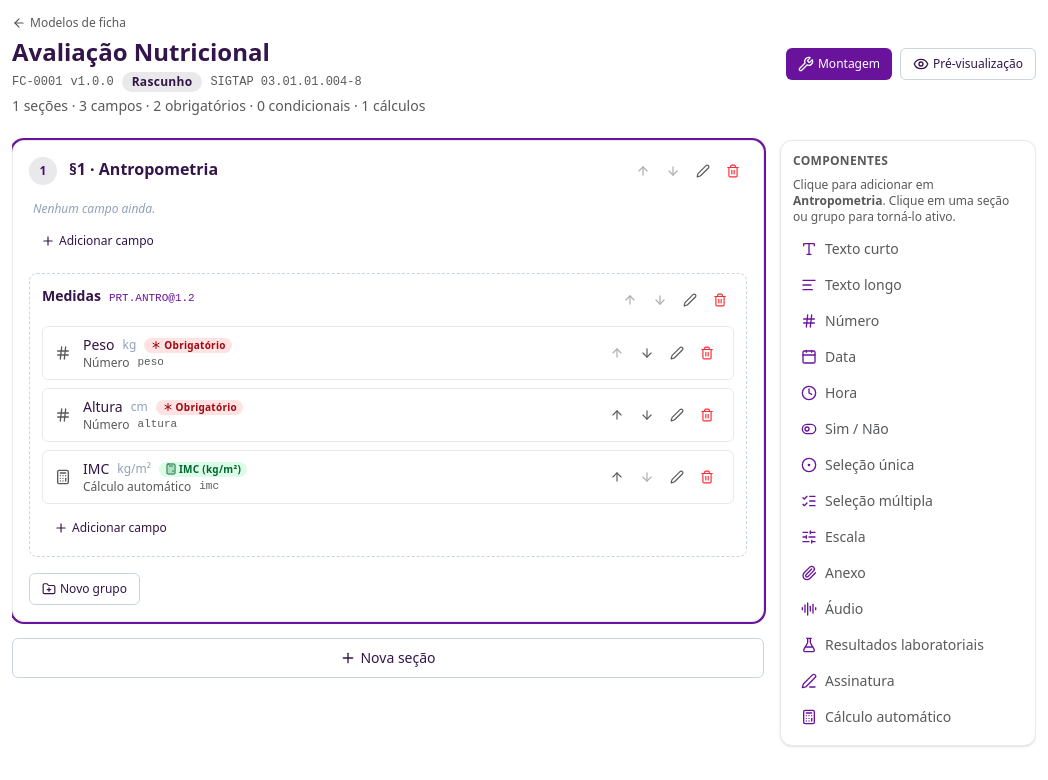
it: FormBuilderPage › previews the form with automatic IMC and required counter
Click the button "Pré-visualização" at (968, 64), box [900, 48, 1036, 80]
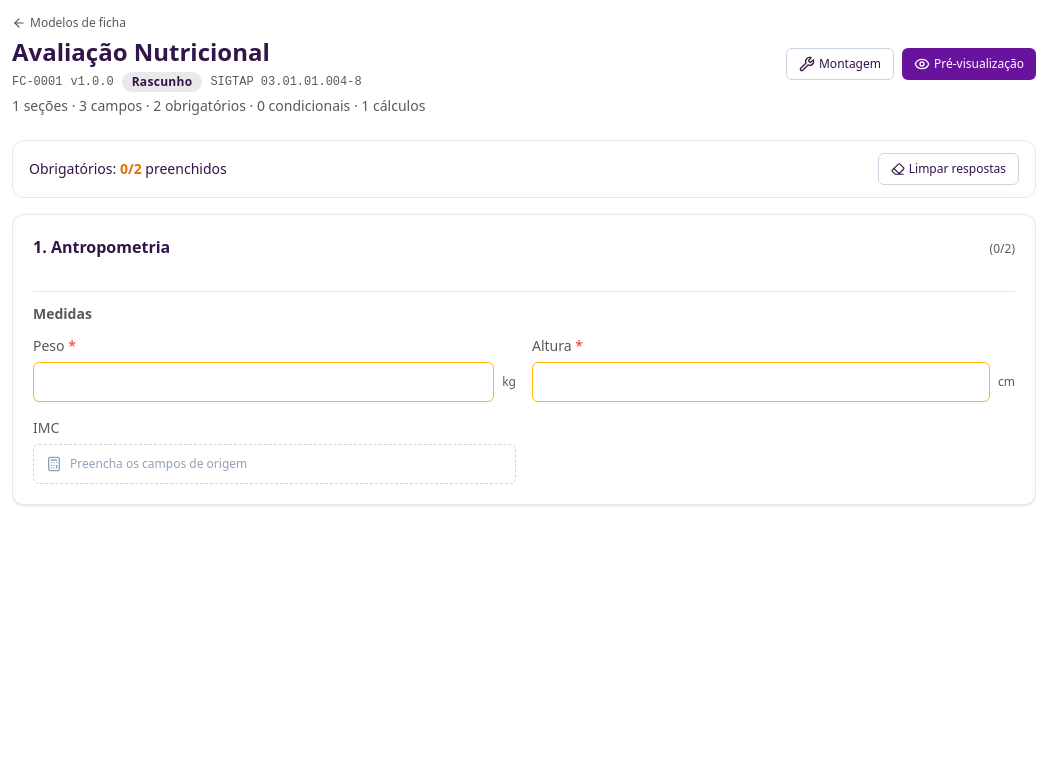
Expected: the text "Preencha os campos de origem" is shown, [70, 456, 247, 472]
Type "80" into the number field labelled "Peso *" at (264, 382), box [33, 362, 494, 402]
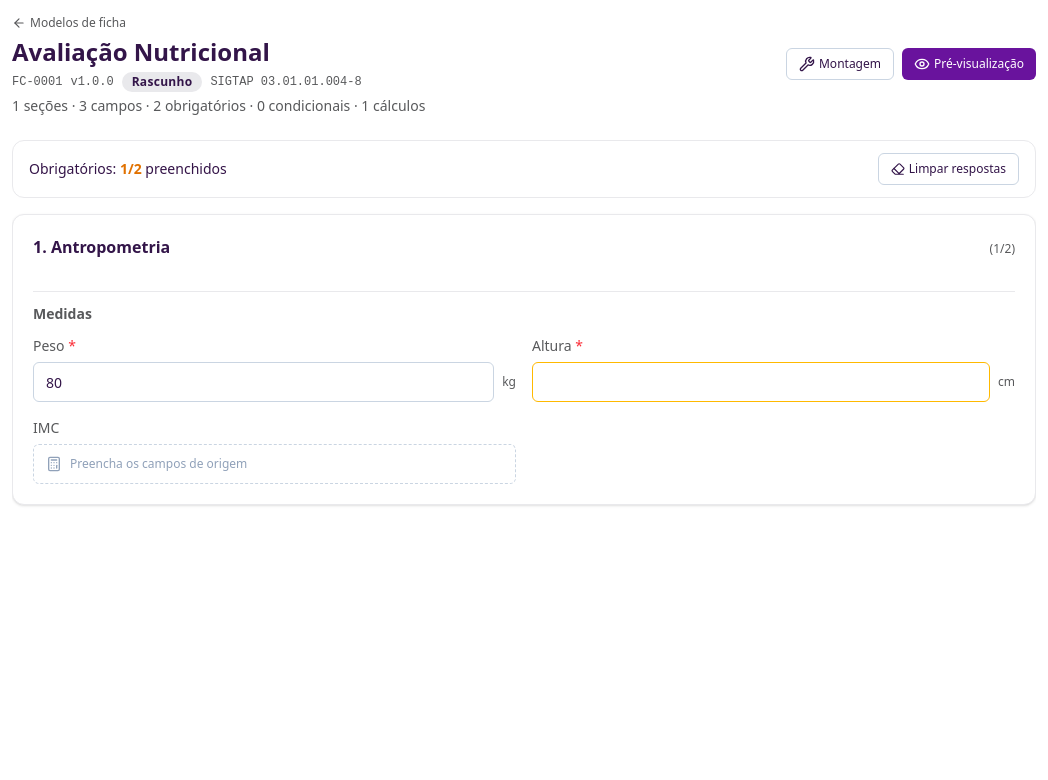
Type "170" into the number field labelled "Altura *" at (761, 382), box [532, 362, 990, 402]
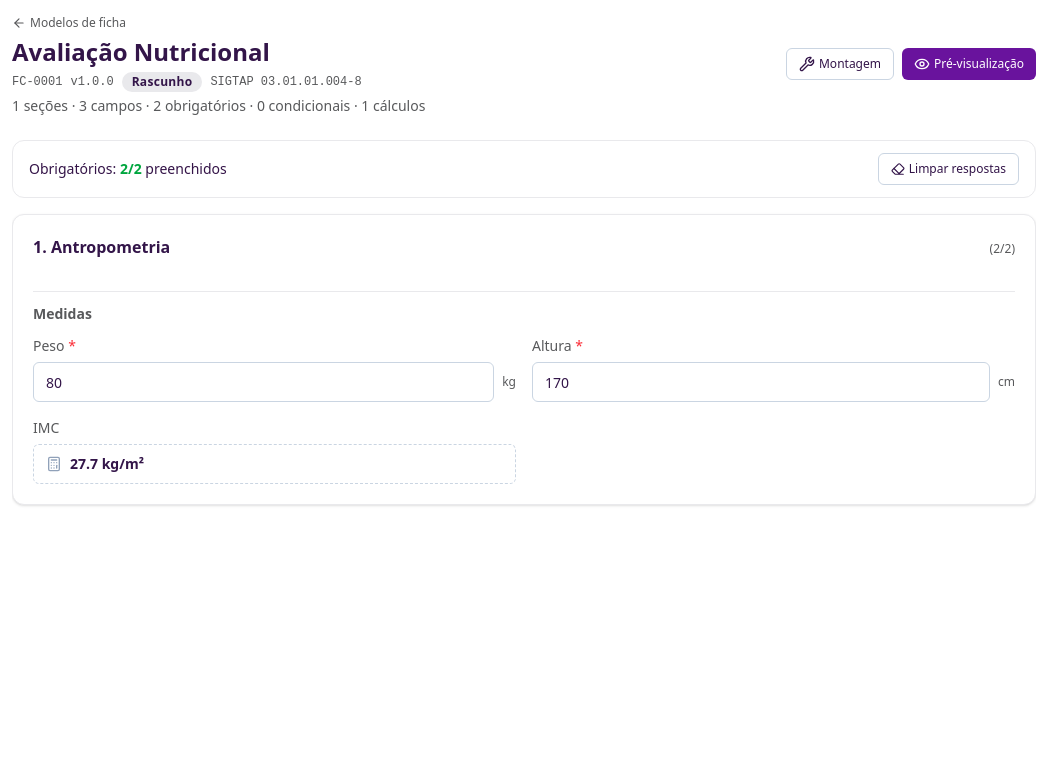
Expected: the text "27.7 kg/m²" is shown, [70, 454, 144, 474]
Expected: the text "2/2" is shown, [120, 159, 142, 178]
